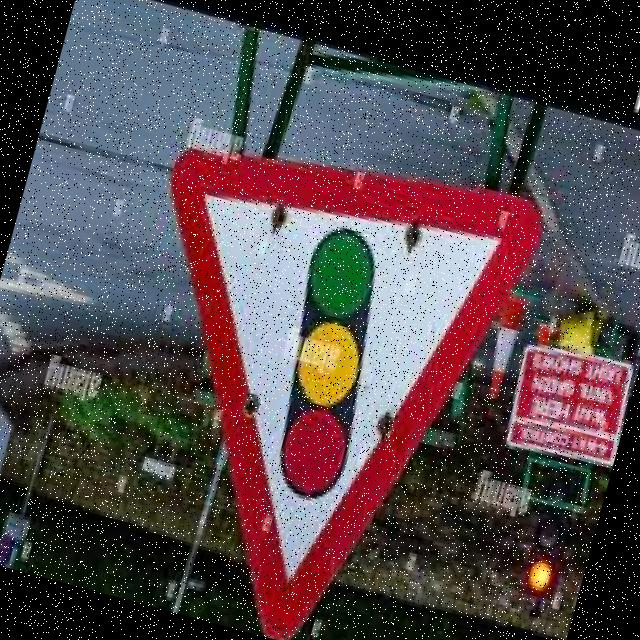light_traffic: (60, 111, 555, 640)
